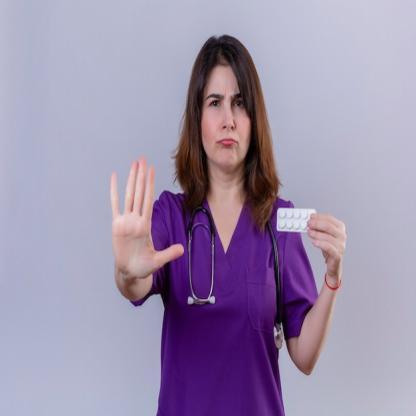stop: (109, 152, 186, 288)
